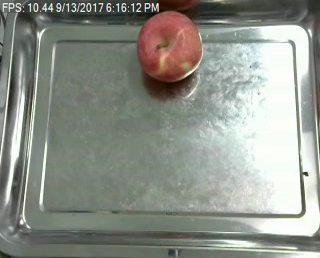Apple: (135, 8, 203, 82)
